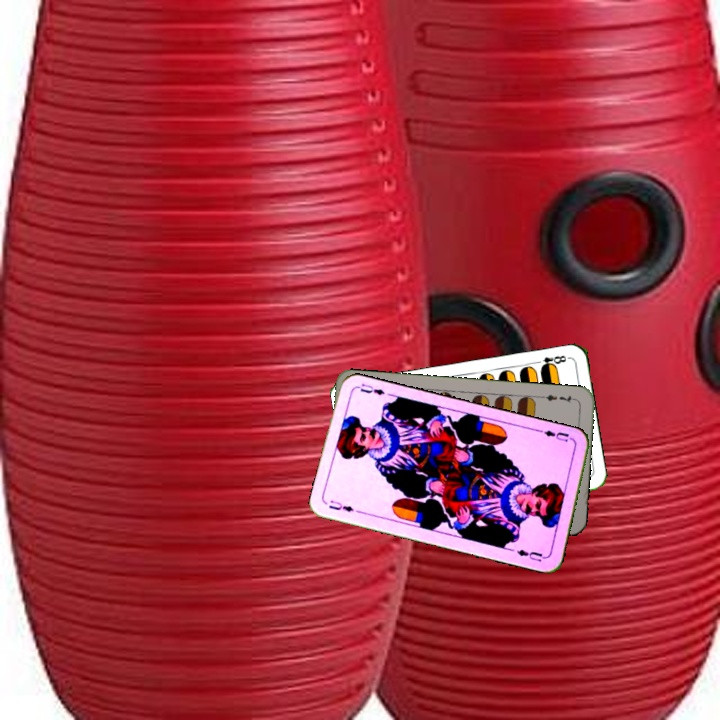E7: (538, 390, 579, 405)
E8: (531, 351, 572, 372)
EU: (325, 496, 356, 515), (540, 426, 571, 444)
